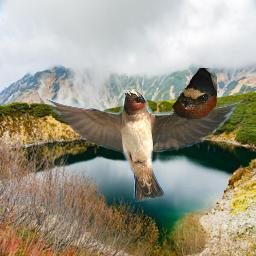Swallow: (39, 89, 242, 202), (172, 68, 217, 120)
